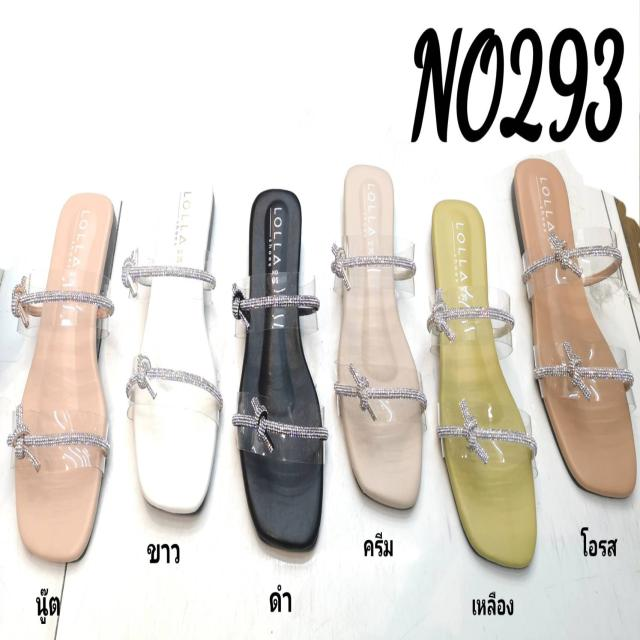black: (240, 188, 324, 556)
cream: (338, 166, 424, 506)
nood: (11, 190, 117, 558)
orot: (514, 161, 634, 503)
white: (134, 166, 218, 515)
yellow: (429, 202, 538, 578)
